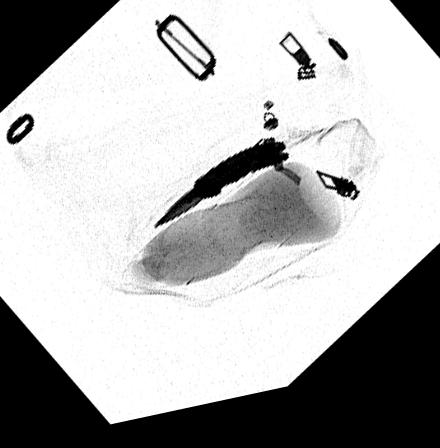Knife: (152, 149, 290, 236)
